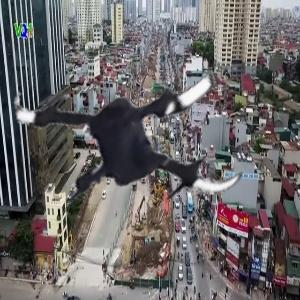drone: (17, 5, 260, 248)
